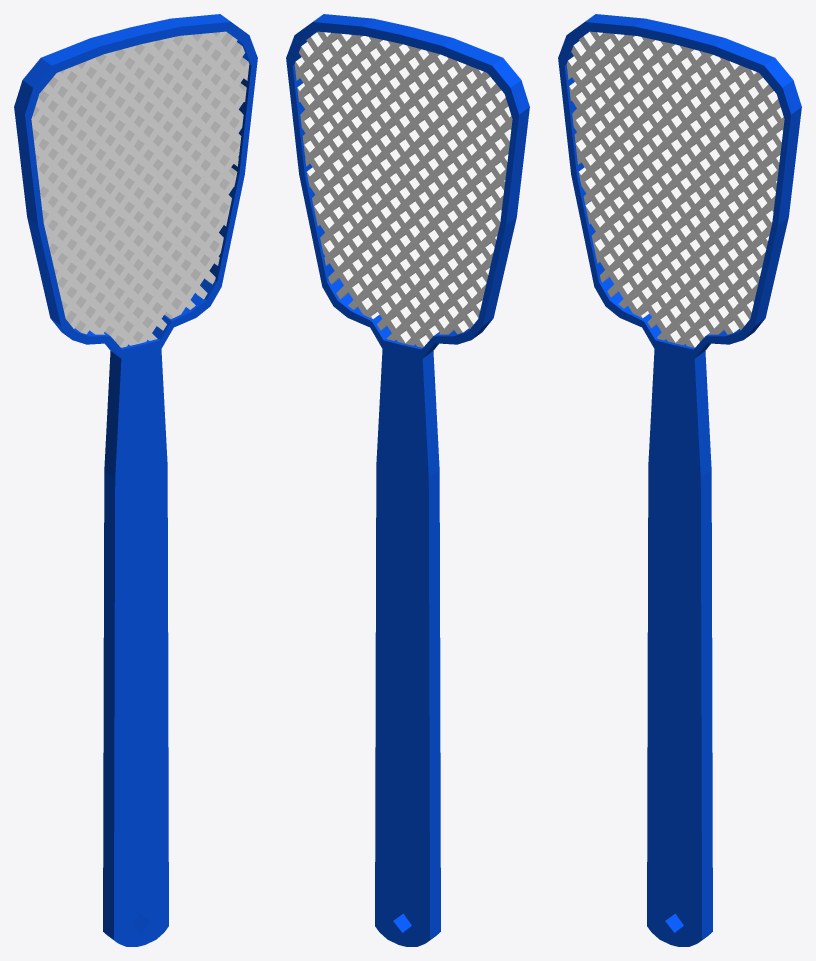
Rendered from votruoi.fbx.
The picture shows the model from 3 angles, left to right: view 1: azimuth 30°, elevation 25°; view 2: azimuth 150°, elevation 25°; view 3: azimuth 330°, elevation 25°; orthographic projection.
Parts seen in each view (by area): view 1: votruoi; view 2: votruoi; view 3: votruoi.
Boxes of the visible parts, bbox=[...] form: votruoi: bbox=[14, 14, 257, 946]; votruoi: bbox=[286, 14, 529, 946]; votruoi: bbox=[558, 14, 801, 946].
Size of the model in its own units: 1.61 by 6 by 0.1298.
